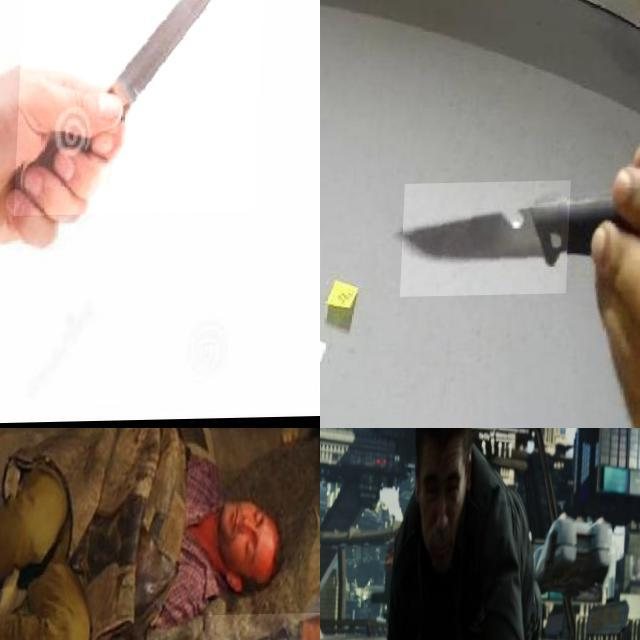-: (18, 0, 268, 217), (403, 182, 573, 298)
gun-knife-thesis - v11 Yolov5 augmented: (206, 614, 320, 640)
